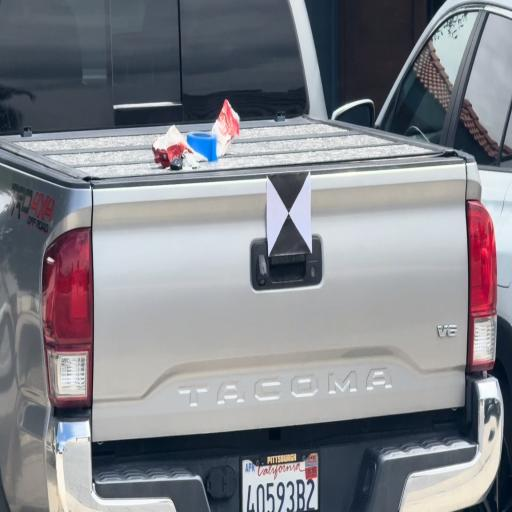target: (268, 176, 312, 254)
